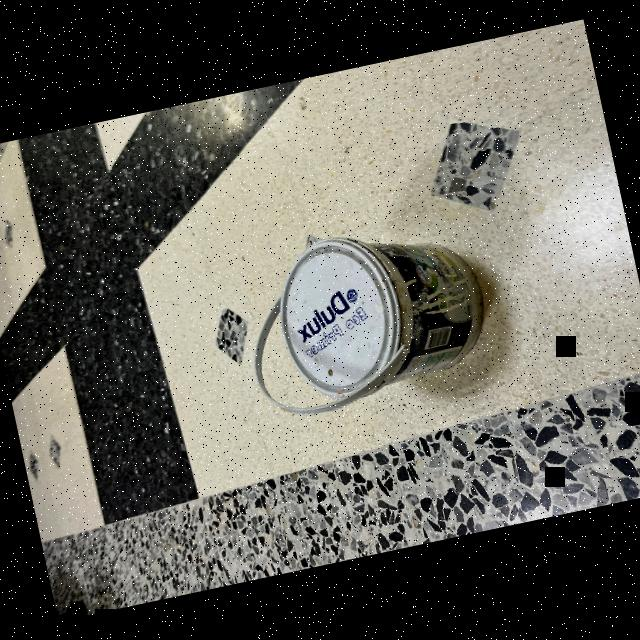paint_bucket: (227, 196, 511, 446)
